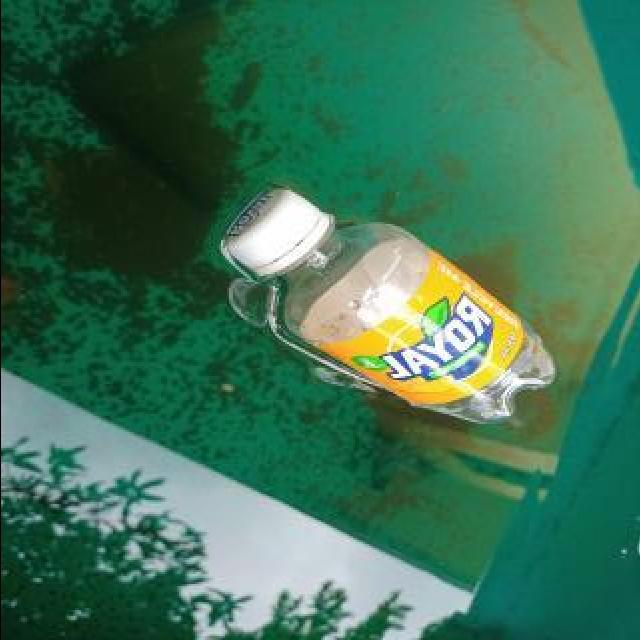Bottle: (215, 180, 562, 433)
